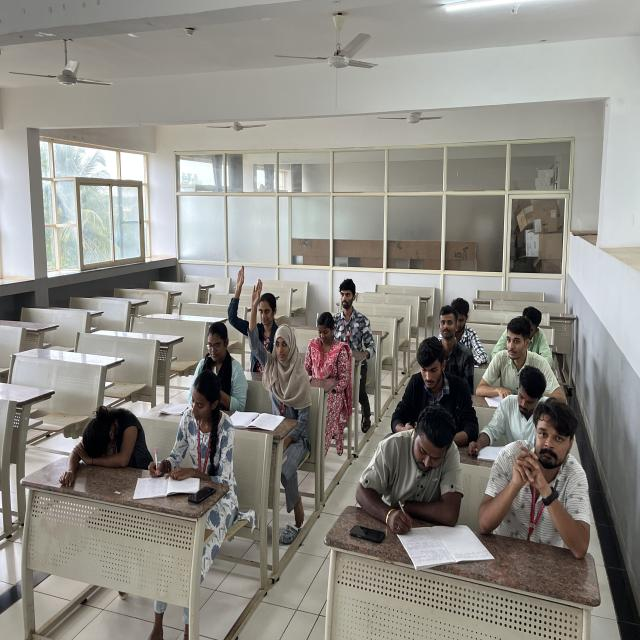Hand Rising: (246, 269, 304, 416), (225, 260, 277, 362)
Reading: (468, 361, 553, 459)
Sleeping: (57, 394, 149, 494)
Using Phone: (394, 319, 473, 445), (285, 303, 352, 382), (191, 311, 248, 400)
Writing: (388, 402, 492, 606), (142, 366, 214, 492)
